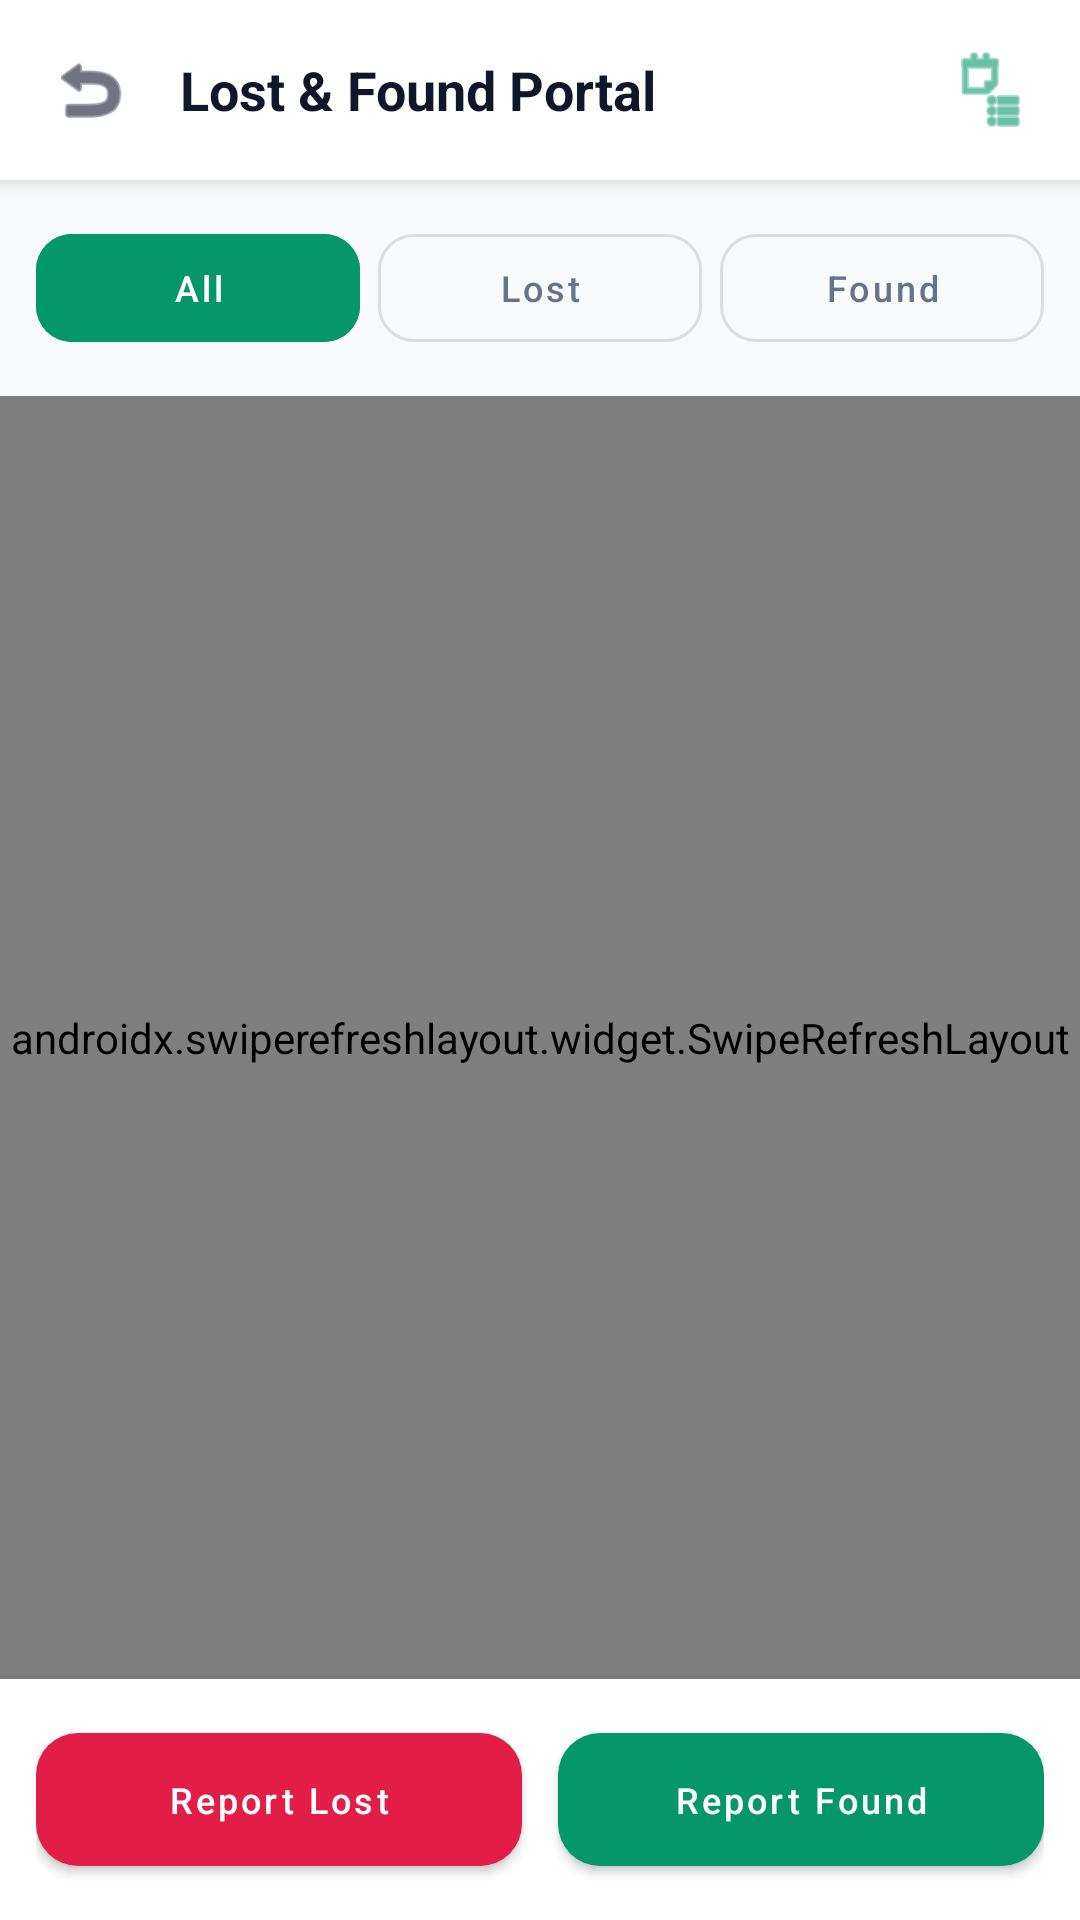

Locate icon controls on the screen. Image size 1080 x 1920, boxes as (x1, y1, x2, y2).
agenda: (961, 52, 1020, 127)
revert: (61, 63, 121, 118)
